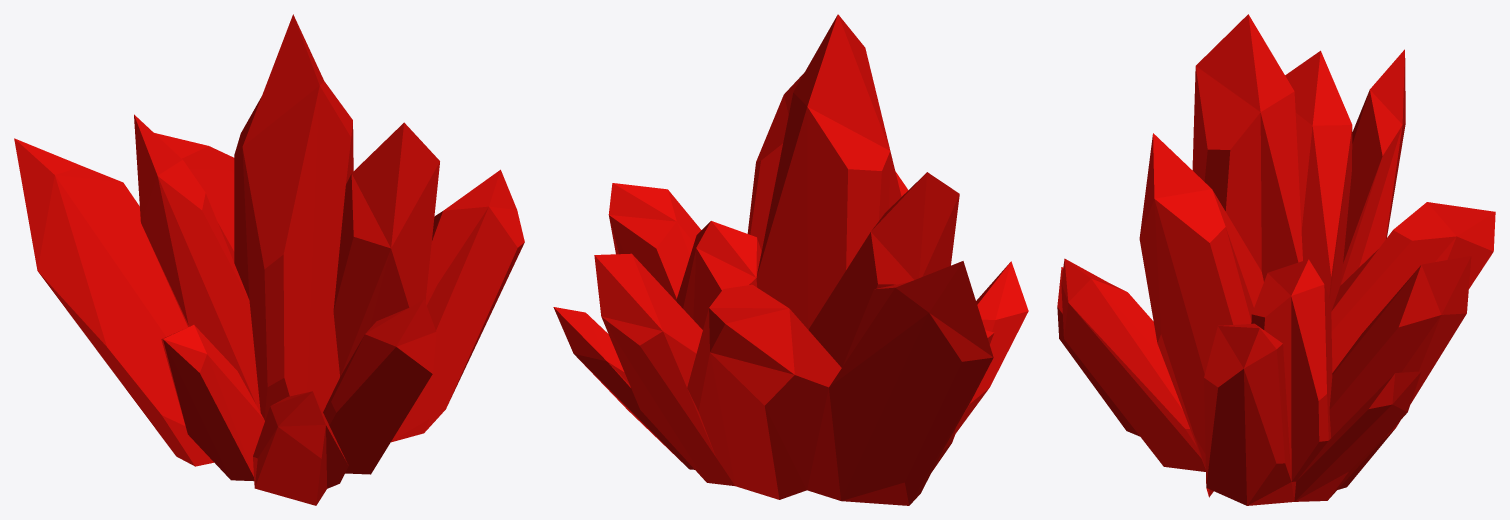
Rendered from brightredmal.fbx.
3 renders of one model, left to right at view 1: azimuth 30°, elevation 25°; view 2: azimuth 150°, elevation 25°; view 3: azimuth 270°, elevation 25°, orthographic. The views are drawn at different scales.
Parts seen in each view (by area): view 1: Cube.005; view 2: Cube.005; view 3: Cube.005.
Boxes of the visible parts, left/top/right/bottom form: Cube.005: left=14, top=14, right=524, bottom=505; Cube.005: left=553, top=14, right=1028, bottom=505; Cube.005: left=1057, top=14, right=1495, bottom=505.
Bounding box in the file's own units: 234 × 230 × 210.
